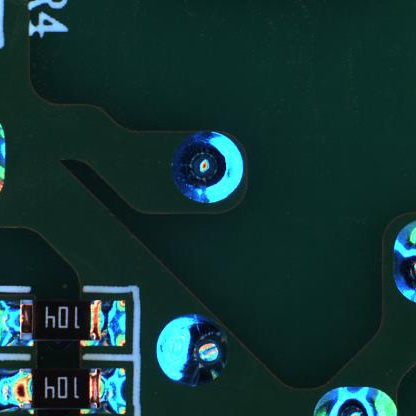spot: (164, 123, 246, 208), (153, 308, 239, 388)
